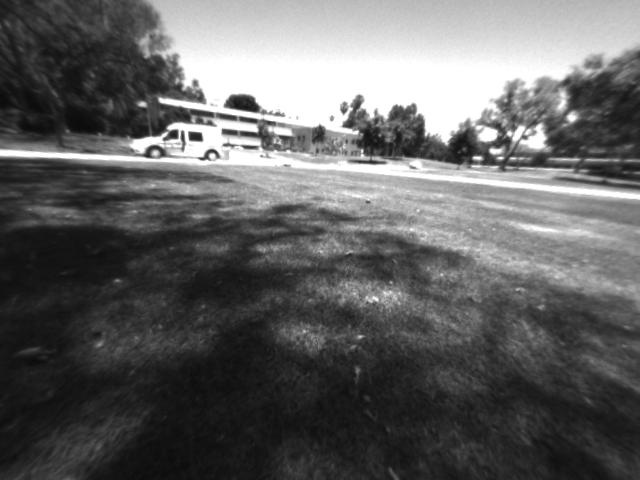dogtoy: (361, 193, 376, 207)
